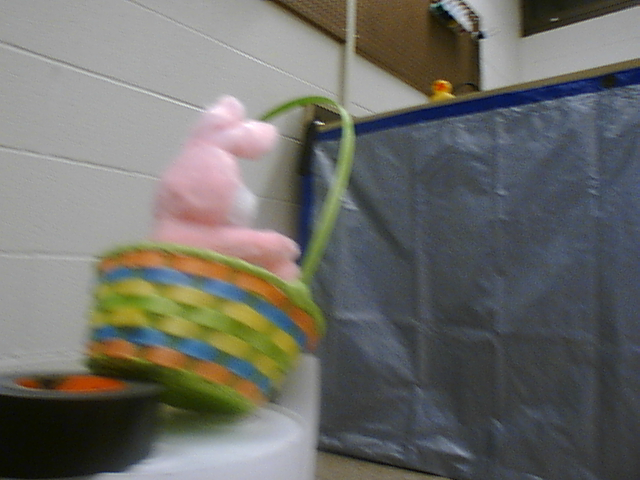bunny: (78, 83, 355, 422)
